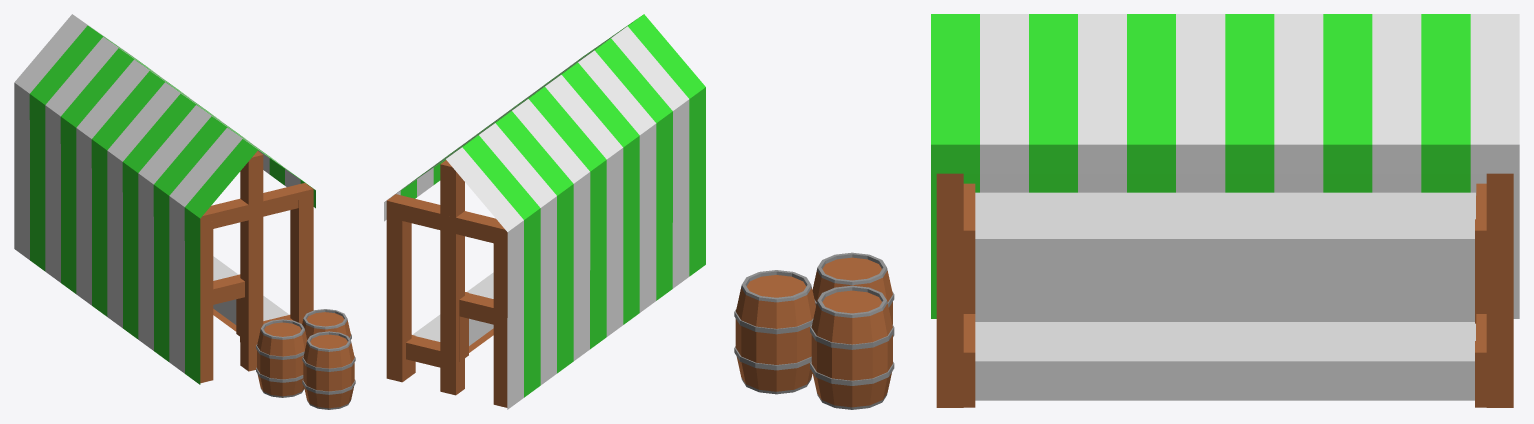
The model's file is Low_Poly_Shop.fbx.
3 renders of one model, left to right at view 1: azimuth 30°, elevation 25°; view 2: azimuth 150°, elevation 25°; view 3: azimuth 270°, elevation 25°, orthographic. The views are drawn at different scales.
Parts seen in each view (by area): view 1: Stall; view 2: Stall; view 3: Stall.
Part boxes in pixels (left/top/right/bottom): Stall: left=14, top=14, right=355, bottom=409; Stall: left=384, top=14, right=705, bottom=409; Stall: left=734, top=14, right=1519, bottom=409.
Size of the model in its own units: 492 by 842 by 1714.
